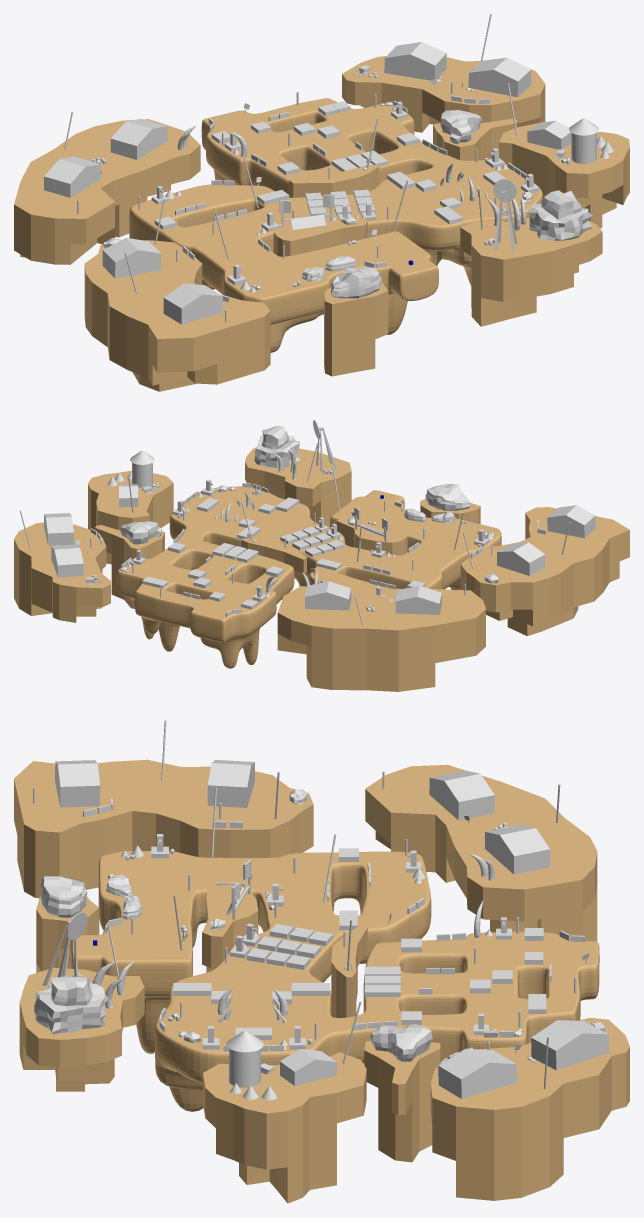
File: Sala1.fbx
The picture shows the model from 3 angles, top to bottom: view 1: azimuth 30°, elevation 25°; view 2: azimuth 150°, elevation 25°; view 3: azimuth 270°, elevation 25°; orthographic projection. The views are drawn at different scales.
Parts seen in each view (by area): view 1: Base 3-1.001, Cube.104, Cube.103, Cube.100, Cube.101, Cube.102, Cube.105, Roca.039, Cube.106, Casa.040, Casa.041, Cube.108 (+11 smaller); view 2: Base 3-1.001, Cube.103, Cube.104, Cube.101, Cube.100, Cube.102, Cube.108, Cube.106, Roca.039, Casa.036, Casa.037, Casa.039 (+10 smaller); view 3: Base 3-1.001, Cube.104, Cube.103, Cube.101, Cube.102, Cube.100, Cube.108, Roca.039, Casa.041, Cube.106, Casa.040, Casa.039 (+10 smaller).
Part boxes in pixels (x1,y1,x2,y2): Base 3-1.001: [129, 98, 542, 352]; Cube.104: [84, 240, 270, 391]; Cube.103: [14, 119, 200, 264]; Cube.100: [460, 217, 602, 326]; Cube.101: [342, 56, 545, 158]; Cube.102: [499, 122, 629, 228]; Cube.105: [324, 281, 388, 376]; Roca.039: [529, 190, 592, 240]; Cube.106: [273, 217, 367, 256]; Casa.040: [384, 42, 446, 80]; Casa.041: [468, 57, 531, 97]; Cube.108: [433, 118, 517, 160]; Base 3-1.001: [117, 486, 501, 668]; Cube.103: [277, 586, 485, 691]; Cube.104: [460, 507, 629, 636]; Cube.101: [14, 522, 110, 622]; Cube.100: [245, 447, 351, 528]; Cube.102: [88, 471, 173, 564]; Cube.108: [95, 525, 164, 608]; Cube.106: [336, 517, 407, 555]; Roca.039: [254, 425, 299, 467]; Casa.036: [547, 505, 595, 538]; Casa.037: [497, 542, 545, 575]; Casa.039: [304, 581, 351, 610]; Base 3-1.001: [71, 851, 599, 1111]; Cube.104: [14, 759, 313, 898]; Cube.103: [365, 764, 597, 941]; Cube.101: [430, 1018, 629, 1200]; Cube.102: [203, 1052, 366, 1203]; Cube.100: [19, 967, 144, 1091]; Cube.108: [364, 1040, 440, 1162]; Roca.039: [34, 976, 108, 1034]; Casa.041: [438, 1048, 516, 1098]; Cube.106: [202, 885, 258, 972]; Casa.040: [531, 1020, 609, 1070]; Casa.039: [484, 824, 550, 874].
Bounding box in the file's own units: 29096 × 38684 × 10506.
